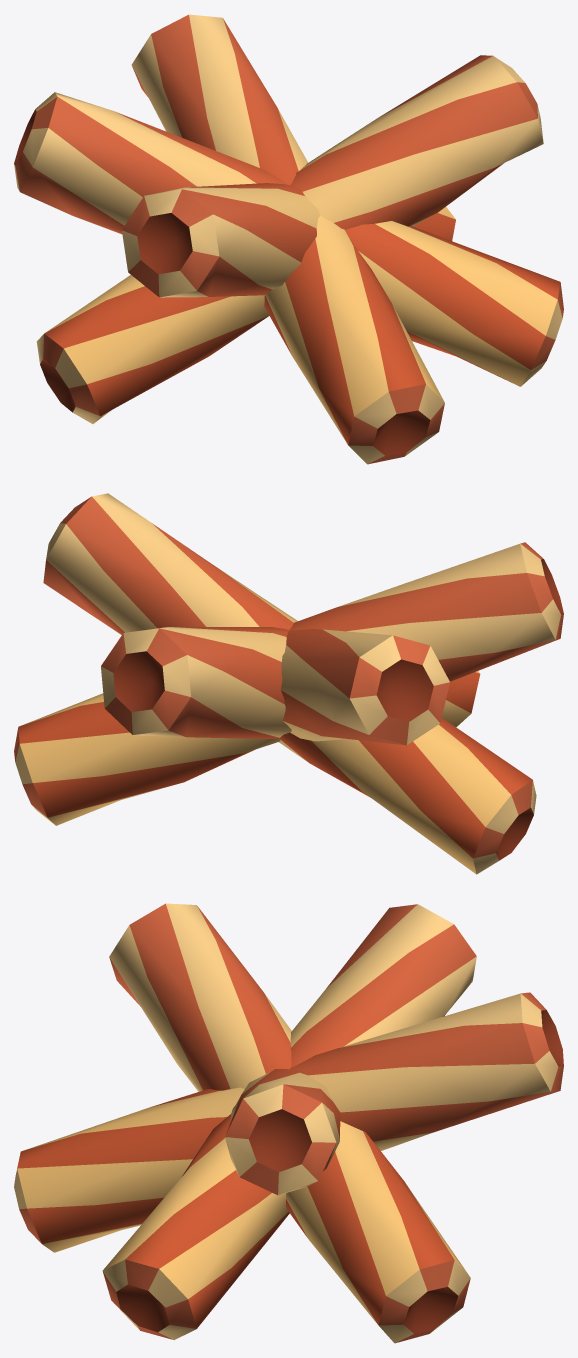
File: Fireplace_firewood_001.glb
3 renders of one model, top to bottom at view 1: azimuth 30°, elevation 25°; view 2: azimuth 150°, elevation 25°; view 3: azimuth 270°, elevation 25°, orthographic.
Visible parts, largest first — view 1: Fireplace_firewood_001; view 2: Fireplace_firewood_001; view 3: Fireplace_firewood_001.
Boxes of the visible parts, bbox=[...] form: Fireplace_firewood_001: bbox=[14, 14, 563, 464]; Fireplace_firewood_001: bbox=[14, 493, 563, 874]; Fireplace_firewood_001: bbox=[14, 903, 563, 1343].
Bounding box in the file's own units: 0.6626 × 0.3558 × 0.6613.
Materials: 1 (1 with a texture image).
